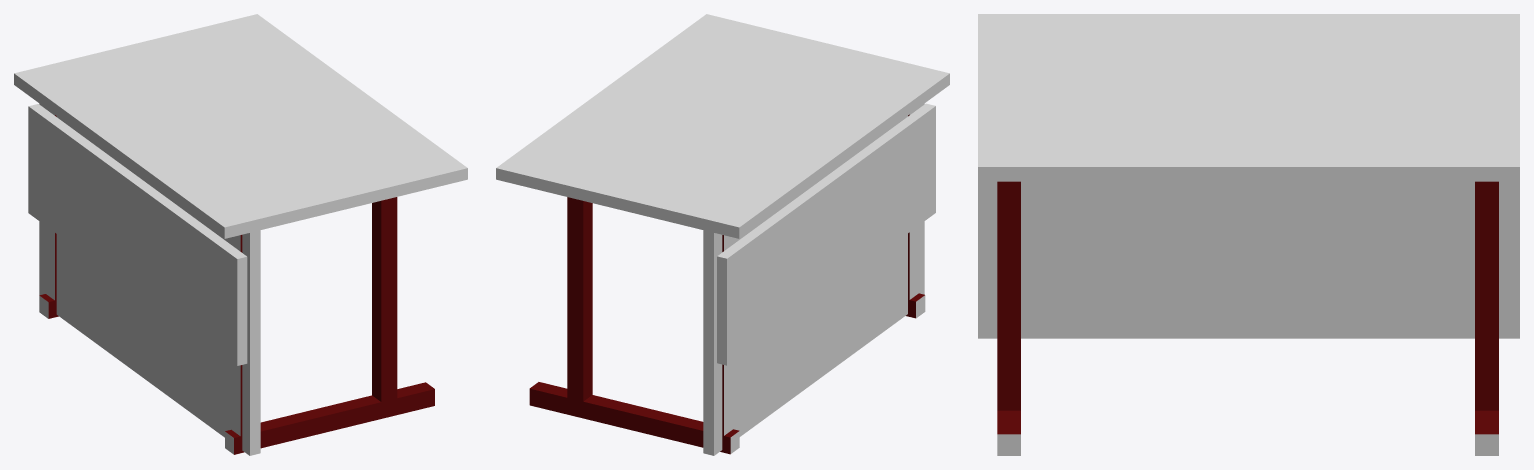
The model's file is desk_red.fbx.
The picture shows the model from 3 angles, left to right: view 1: azimuth 30°, elevation 25°; view 2: azimuth 150°, elevation 25°; view 3: azimuth 270°, elevation 25°; orthographic projection. The views are drawn at different scales.
Visible parts, largest first — view 1: хитбокс, Desk_LOD0; view 2: хитбокс, Desk_LOD0; view 3: хитбокс, Desk_LOD0.
Part boxes in pixels (x1,y1,x2,y2): хитбокс: [14, 14, 467, 455]; Desk_LOD0: [28, 104, 434, 454]; хитбокс: [496, 14, 949, 455]; Desk_LOD0: [529, 103, 935, 454]; хитбокс: [978, 14, 1519, 338]; Desk_LOD0: [997, 181, 1498, 455].
Bounding box in the file's own units: 242 × 225 × 363.
